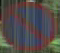No waiting: (2, 3, 52, 52)
